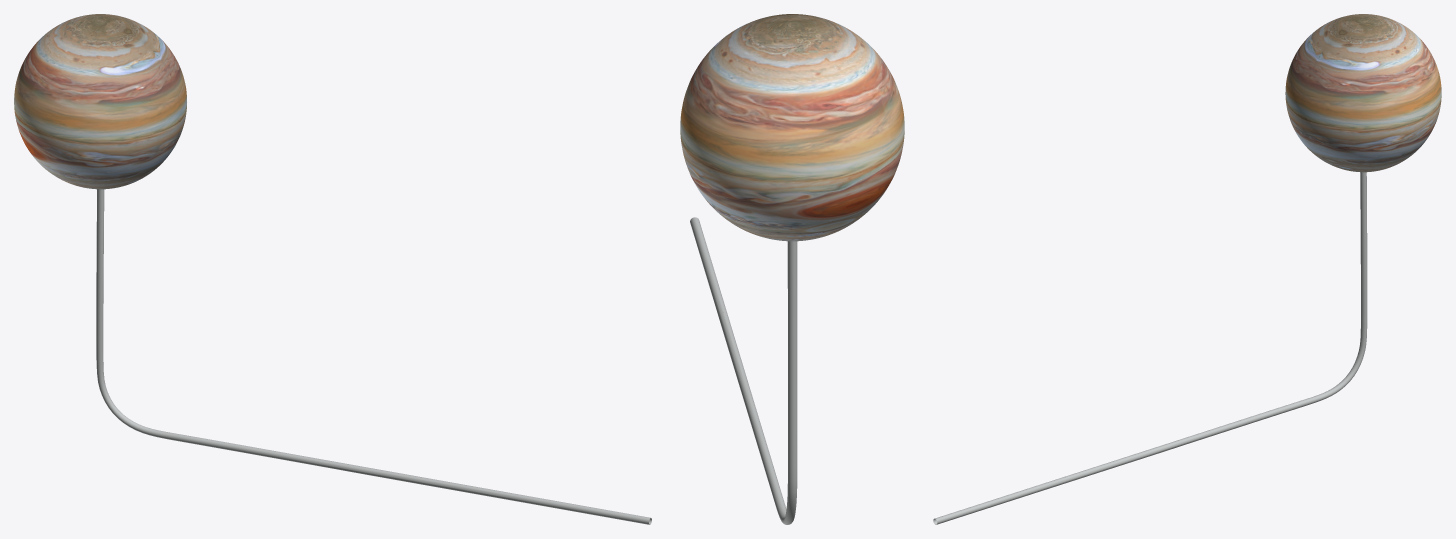
Rendered from orrery_planeta3.glb.
3 views of the same model, side by side, from view 1: azimuth 30°, elevation 25°; view 2: azimuth 150°, elevation 25°; view 3: azimuth 270°, elevation 25° (orthographic). The views are drawn at different scales.
Parts seen in each view (by area): view 1: polySurface13_modelUniverseMaterial_0; view 2: polySurface13_modelUniverseMaterial_0; view 3: polySurface13_modelUniverseMaterial_0.
Boxes of the visible parts, left/top/right/bottom form: polySurface13_modelUniverseMaterial_0: left=14, top=14, right=651, bottom=524; polySurface13_modelUniverseMaterial_0: left=680, top=14, right=904, bottom=524; polySurface13_modelUniverseMaterial_0: left=933, top=14, right=1441, bottom=524.
Size of the model in its own units: 0.1843 by 0.1831 by 0.2304.
Materials: 1 (1 with a texture image).
